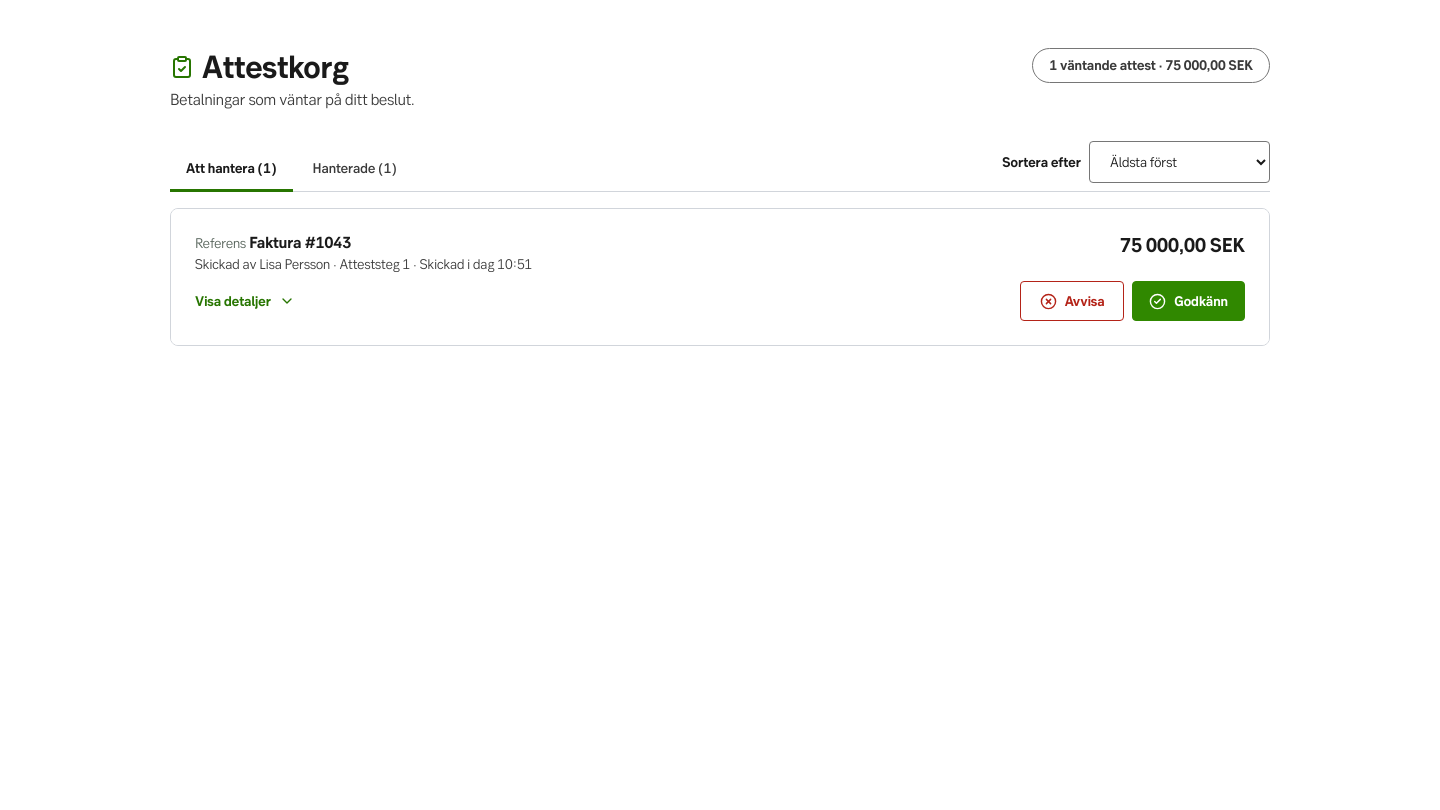
Scenario: Approving and rejecting payments › does not reject with no reason
The image size is (1440, 810).
Step 1. Click the button with aria-label "Avvisa betalning med referens" → {"x": 1072, "y": 301}, box x1=1020 y1=281 x2=1124 y2=321
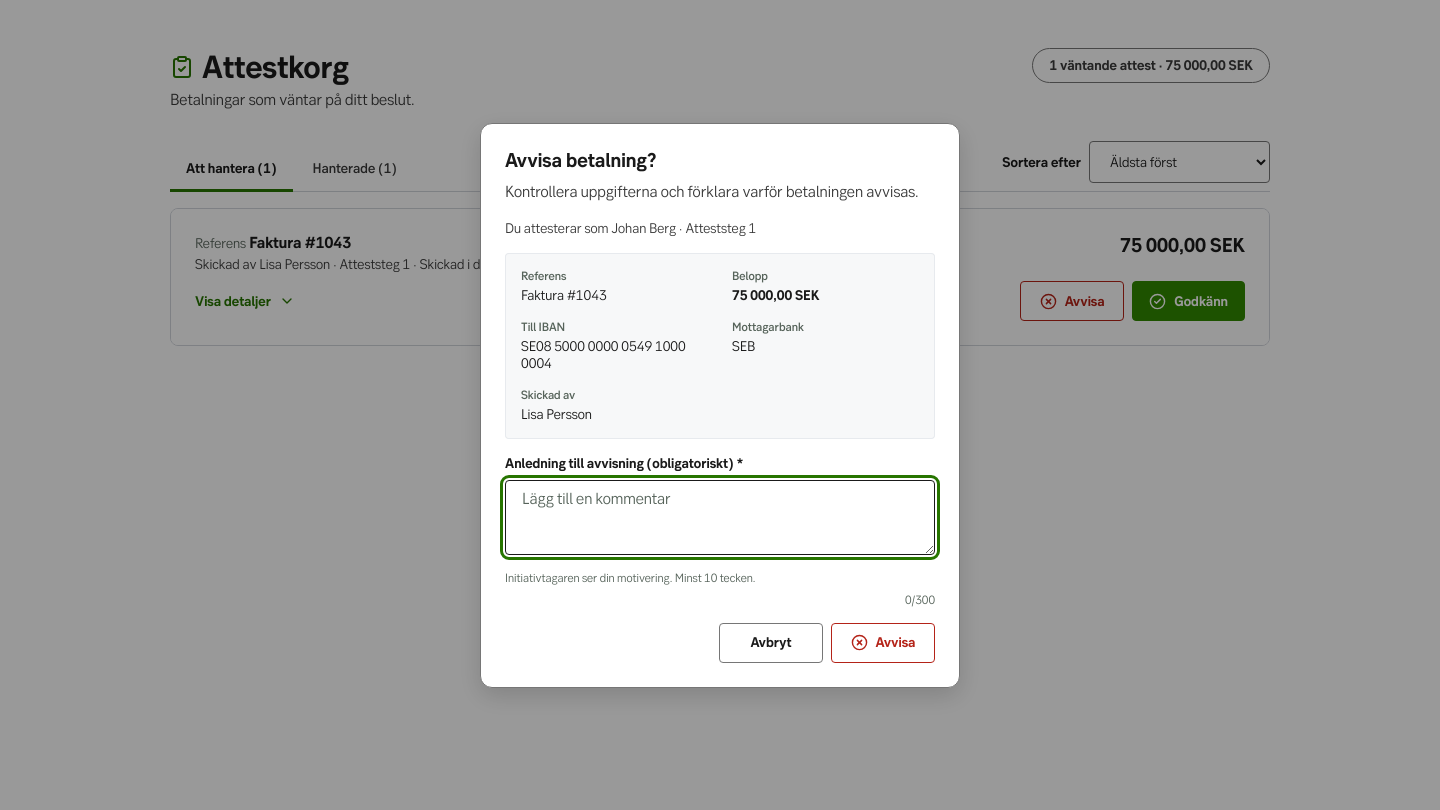
Step 2. Click the button "Avvisa" → {"x": 883, "y": 642}, box x1=831 y1=622 x2=935 y2=662
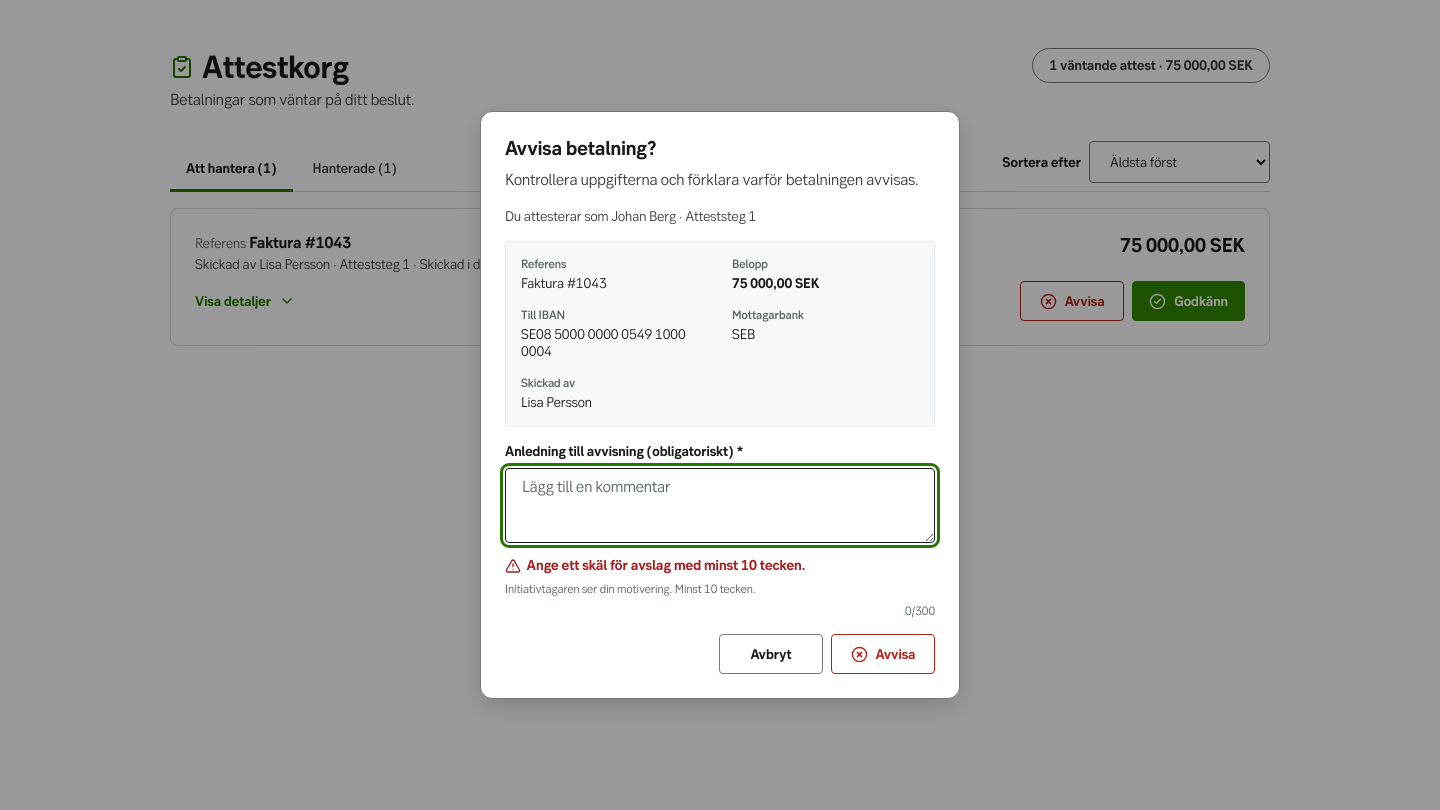
Expected: the text "Ange ett skäl för avslag med minst 10 tecken." is shown, x1=527 y1=556 x2=805 y2=574
